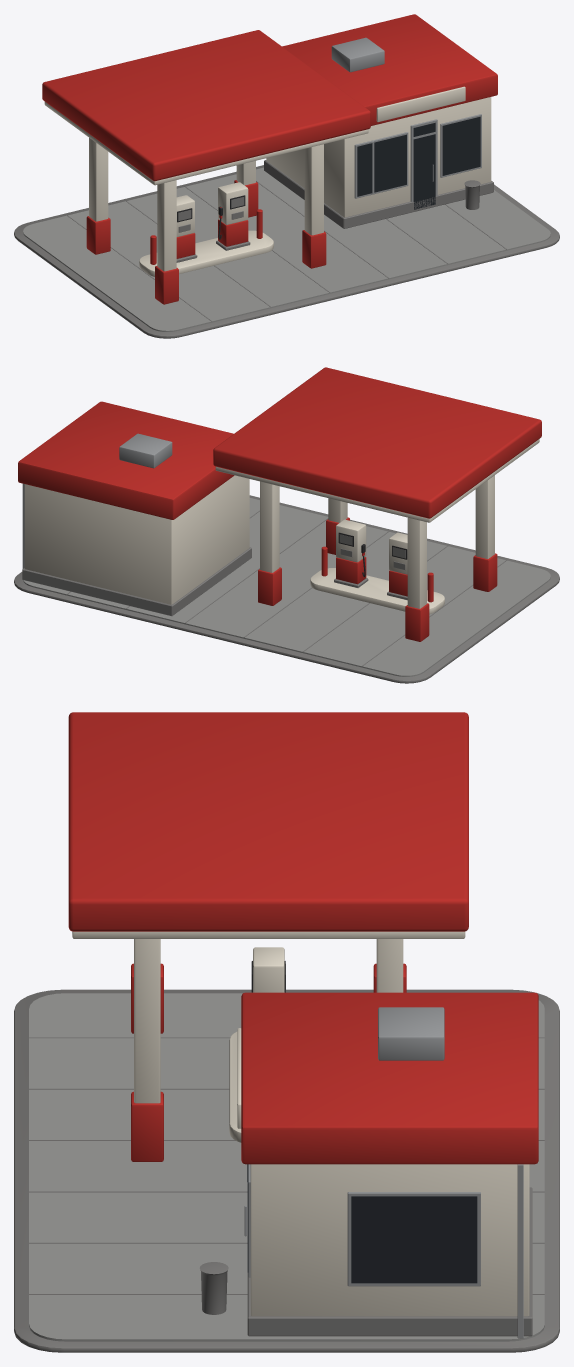
File: GasStation.fbx
3 renders of one model, top to bottom at view 1: azimuth 30°, elevation 25°; view 2: azimuth 150°, elevation 25°; view 3: azimuth 270°, elevation 25°, orthographic. The views are drawn at different scales.
Visible parts, largest first — view 1: GasStation_Mesh; view 2: GasStation_Mesh; view 3: GasStation_Mesh.
Boxes of the visible parts, bbox=[...] form: GasStation_Mesh: bbox=[14, 14, 559, 338]; GasStation_Mesh: bbox=[14, 367, 559, 683]; GasStation_Mesh: bbox=[14, 712, 559, 1352].
Size of the model in its own units: 14 by 5.35 by 9.
